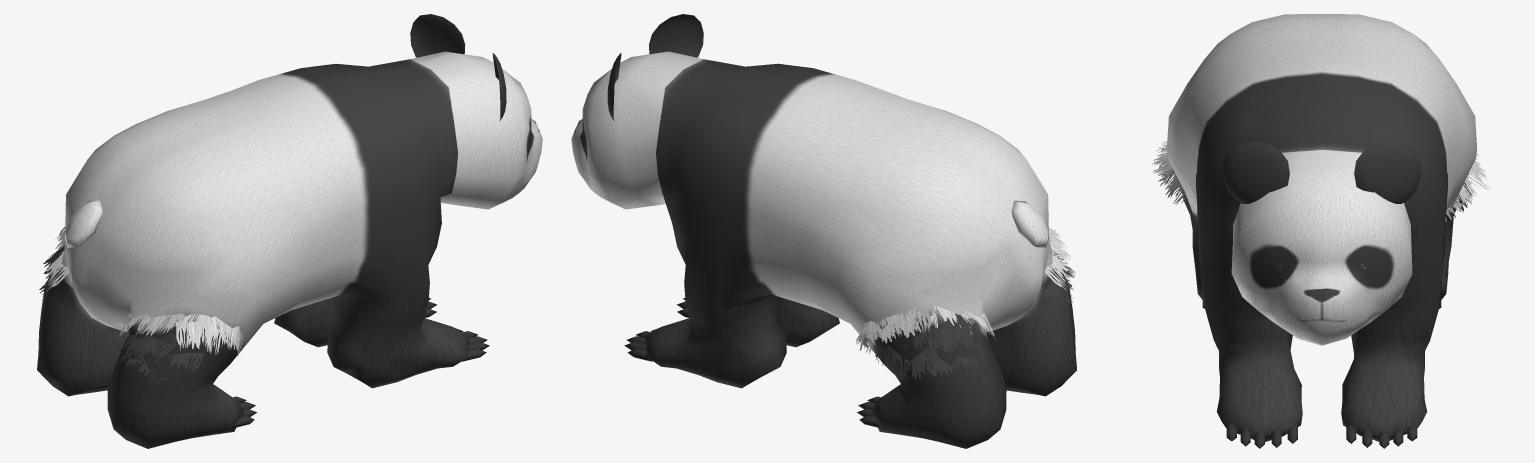
Rendered from panda_model.fbx.
The picture shows the model from 3 angles, left to right: view 1: azimuth 30°, elevation 25°; view 2: azimuth 150°, elevation 25°; view 3: azimuth 270°, elevation 25°; orthographic projection. The views are drawn at different scales.
Parts seen in each view (by area): view 1: pCube12, pCube6, pCube10, pPlane52, pPlane23, pPlane50, pCylinder6, pPlane39; view 2: pCube12, pCube9, pCube10, pPlane5, pPlane17, pPlane21, pPlane11, pCylinder6; view 3: pCube12, pCube6, pCube9, pCylinder6, pPlane51.
Boxes of the visible parts, bbox=[...] form: pCube12: bbox=[37, 51, 542, 448]; pCube6: bbox=[410, 14, 465, 57]; pCube10: bbox=[65, 200, 102, 247]; pPlane52: bbox=[176, 322, 223, 354]; pPlane23: bbox=[136, 313, 184, 335]; pPlane50: bbox=[196, 316, 237, 349]; pCylinder6: bbox=[424, 298, 489, 361]; pPlane39: bbox=[122, 334, 176, 360]; pCube12: bbox=[571, 51, 1076, 448]; pCube9: bbox=[649, 14, 703, 57]; pCube10: bbox=[1011, 200, 1048, 247]; pPlane5: bbox=[872, 308, 931, 344]; pPlane17: bbox=[923, 313, 981, 347]; pPlane21: bbox=[896, 347, 944, 379]; pPlane11: bbox=[860, 308, 915, 346]; pCylinder6: bbox=[624, 298, 689, 361]; pCube12: bbox=[1166, 14, 1477, 441]; pCube6: bbox=[1354, 141, 1420, 203]; pCube9: bbox=[1223, 141, 1289, 203]; pCylinder6: bbox=[1226, 424, 1417, 448]; pPlane51: bbox=[1154, 160, 1186, 204].
Bounding box in the file's own units: 36.9 × 20.99 × 22.64.
